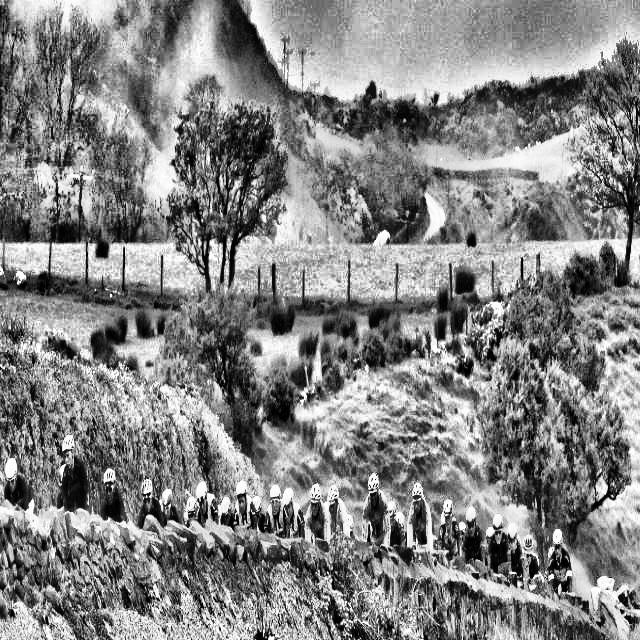Helmet: (61, 430, 76, 471), (4, 456, 19, 494), (102, 466, 116, 506), (140, 476, 154, 514), (410, 480, 424, 516), (366, 471, 379, 508), (160, 484, 173, 520), (326, 483, 339, 519), (506, 520, 519, 556), (492, 510, 504, 547), (236, 478, 248, 514), (196, 481, 209, 514), (269, 483, 281, 518), (466, 504, 478, 538), (552, 526, 564, 560), (443, 495, 454, 530), (522, 533, 534, 565), (310, 480, 320, 518), (186, 496, 196, 524)
